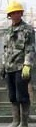boots: (0, 121, 16, 127), (0, 119, 12, 127)
gloves: (0, 72, 7, 85), (0, 68, 6, 80)
hard-hat: (0, 0, 17, 11)
